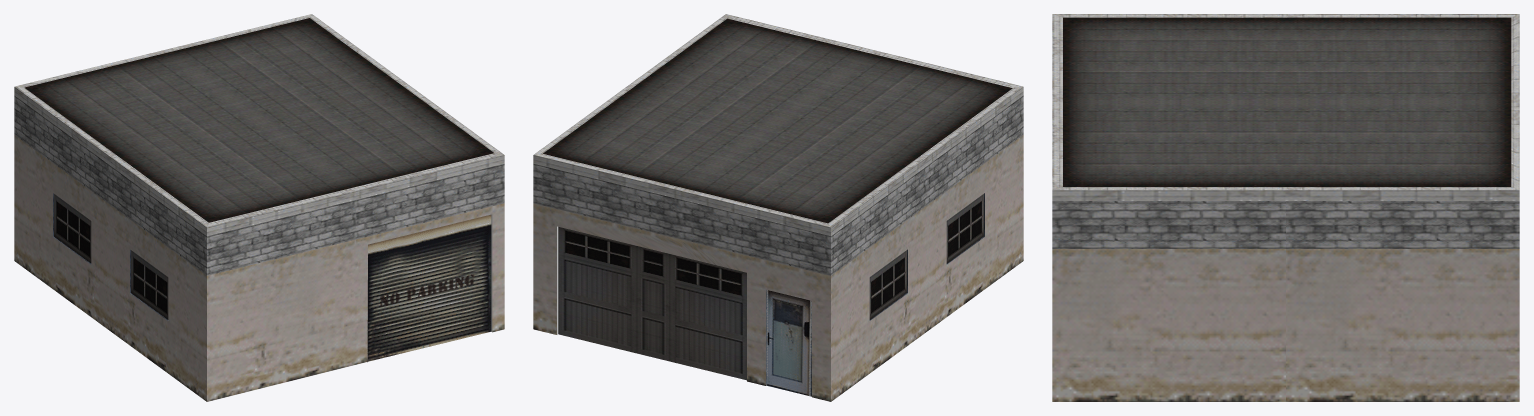
File: garage.obj
The picture shows the model from 3 angles, left to right: view 1: azimuth 30°, elevation 25°; view 2: azimuth 150°, elevation 25°; view 3: azimuth 270°, elevation 25°; orthographic projection. The views are drawn at different scales.
Parts seen in each view (by area): view 1: urbangarage512_urbangarage512_0; view 2: urbangarage512_urbangarage512_0; view 3: urbangarage512_urbangarage512_0.
Part boxes in pixels (x1,y1,x2,y2): urbangarage512_urbangarage512_0: (14,14,504,401); urbangarage512_urbangarage512_0: (533,14,1023,401); urbangarage512_urbangarage512_0: (1052,14,1519,401).
Bounding box in the file's own units: 7.14 × 4 × 8.
1 material, 1 textured.
